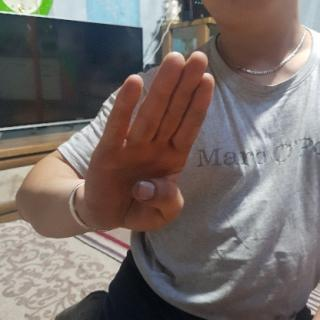KAAF: (76, 45, 218, 237)
